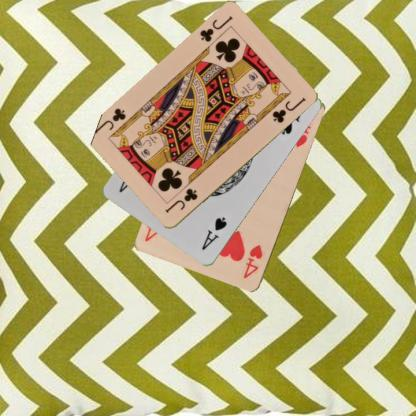4h: (240, 242, 264, 280)
As: (199, 214, 229, 252)
Jc: (197, 13, 234, 44), (162, 186, 200, 214)
